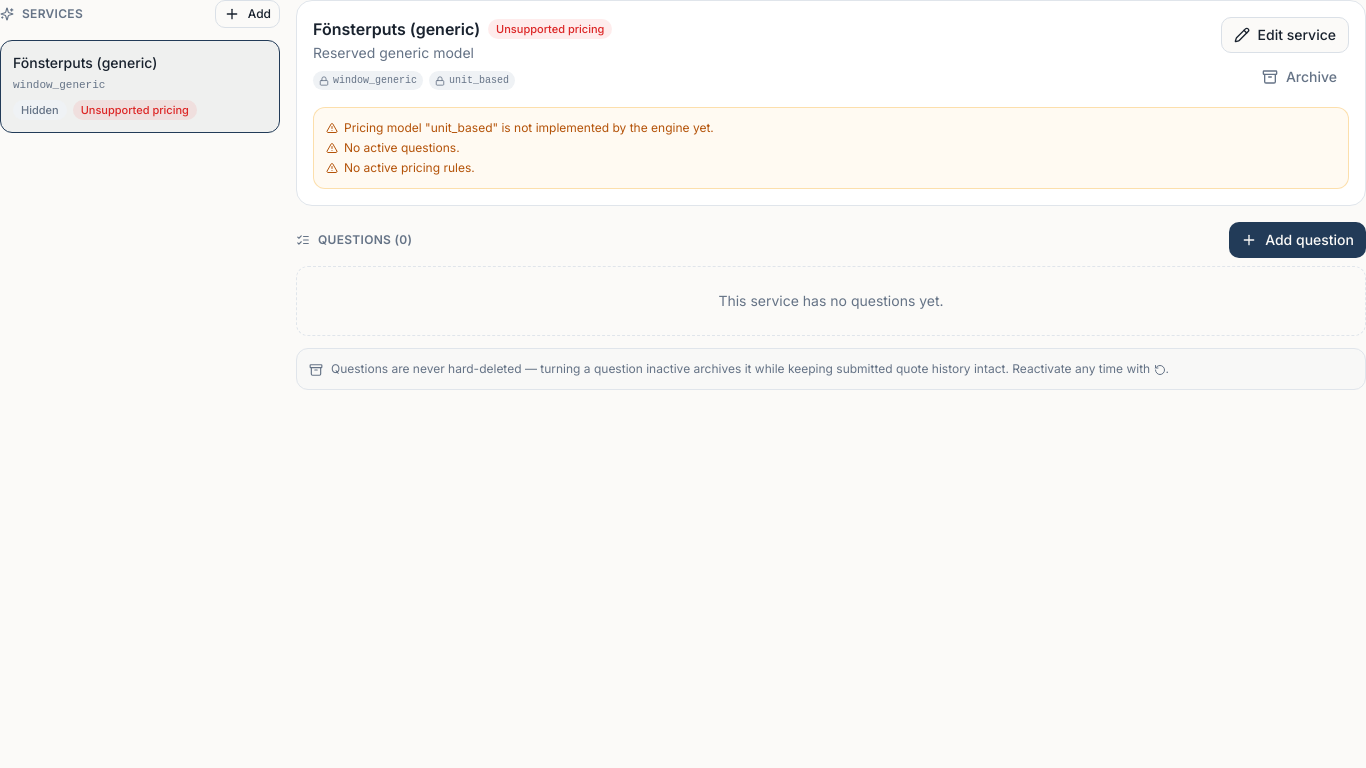
Test case: ServicesFieldsEditor — GPM-8 sqm_fixed enable/public guard alignment › keeps enabling locked with the developer-support message for a reserved generic model (unit_based)
What coordinates should you click on to do the following:
click the button "Edit service"
I would click on:
 (1285, 35)
Its box is [1221,17,1349,53].
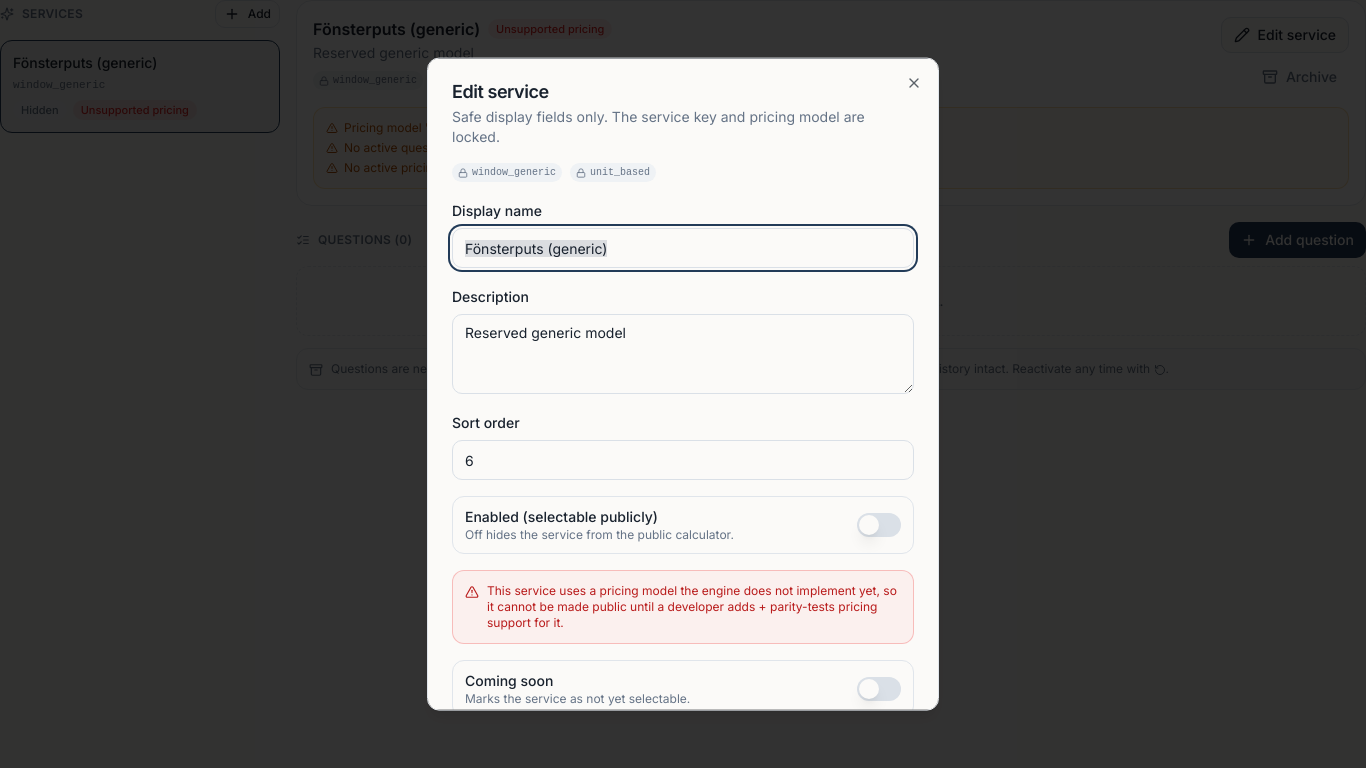
expect the switch named "Service enabled" is disabled: met, box [857,513,901,537]
expect the text "does not implement yet" is shown: met, box [487,583,897,630]
